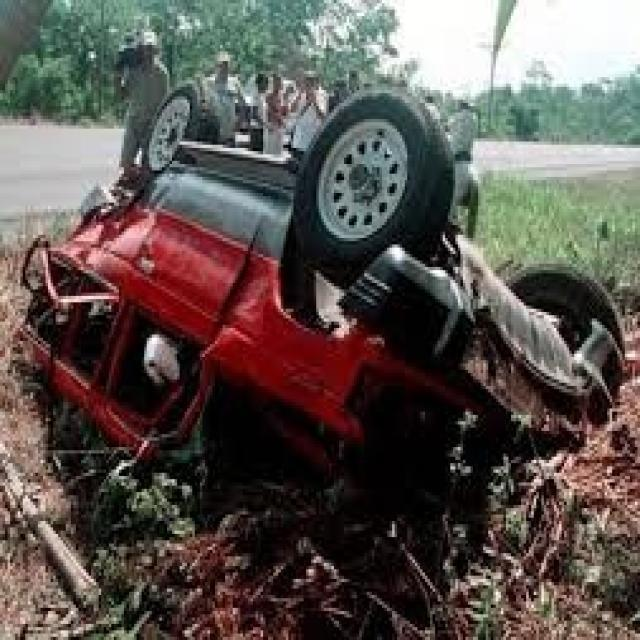accident: (4, 55, 640, 539)
